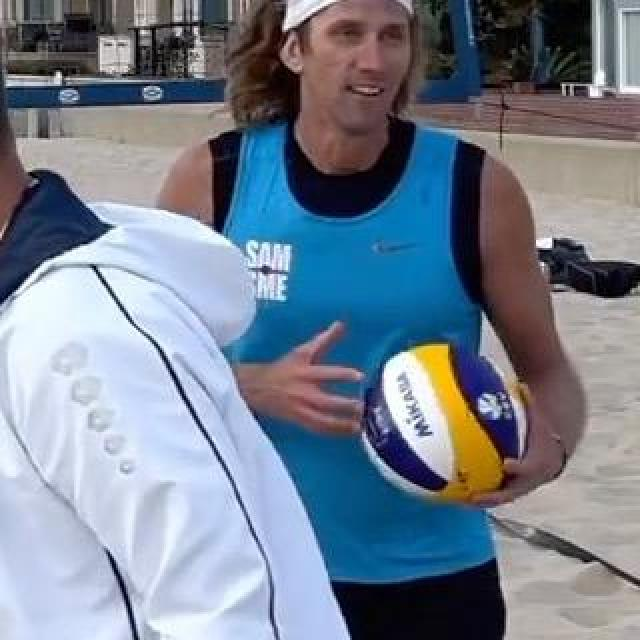volleyball: (364, 342, 528, 506)
